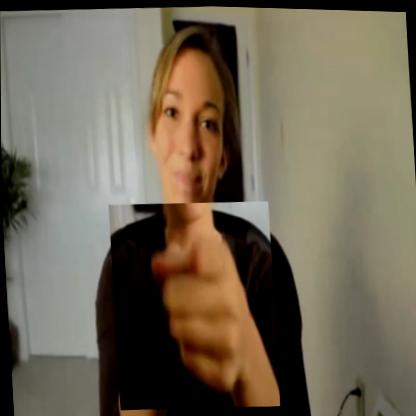NiceToMeetYou: (108, 195, 280, 412)
